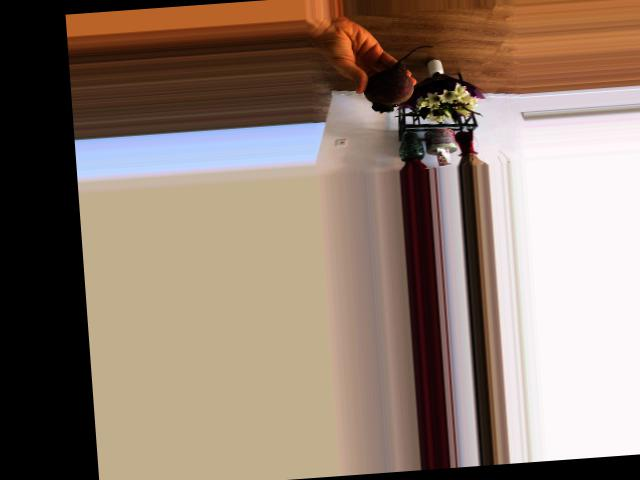beet: (361, 45, 439, 113)
